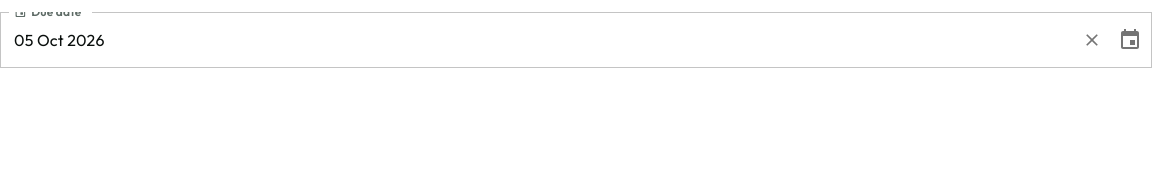
Test: DateField › keeps the saved date while a new one is only half typed
Press the mouse on the number field named "Day" at (24, 40), box [14,30,34,50]
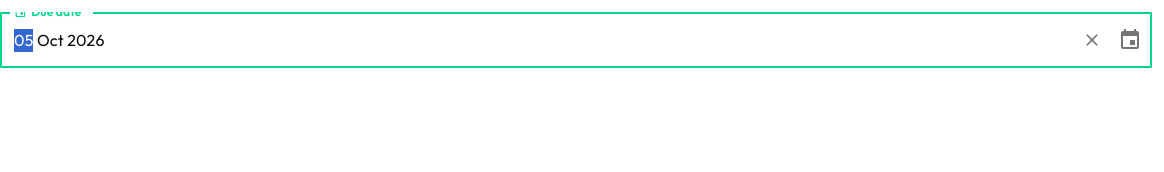
Press Delete in the number field named "Day", box [14,30,34,50]
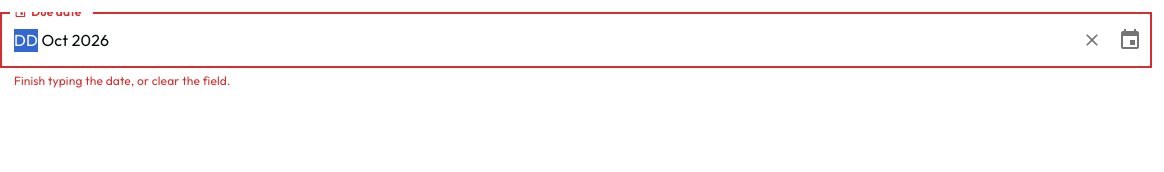
Check: the number field named "Day" reads "DD", box [14,30,38,50]
Check: the text "Finish typing the date, or clear the field." is shown, box [14,73,231,88]
